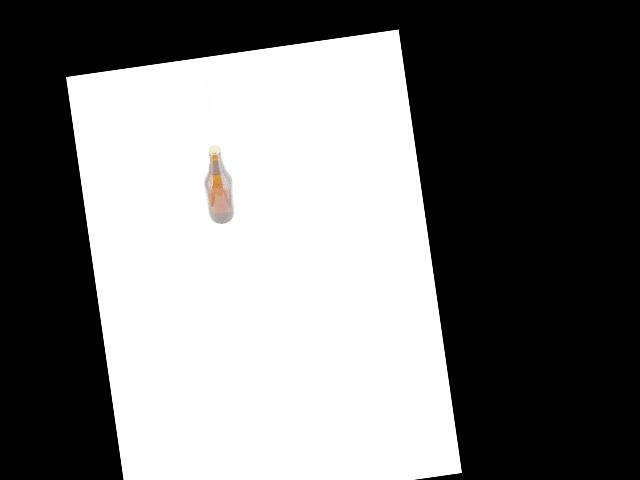beer: (200, 143, 236, 224)
